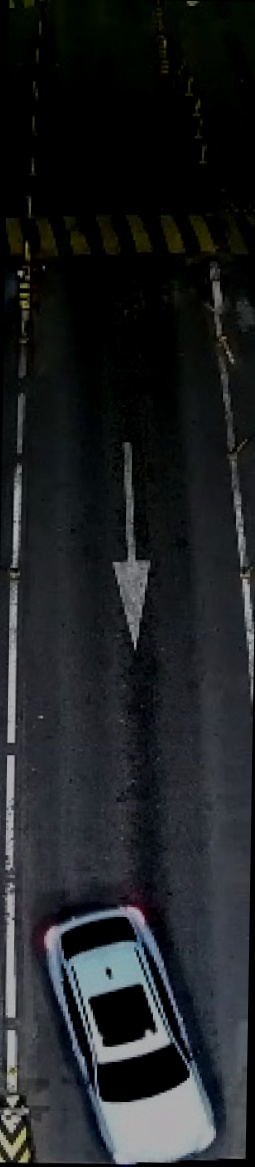car: (22, 897, 238, 1162)
